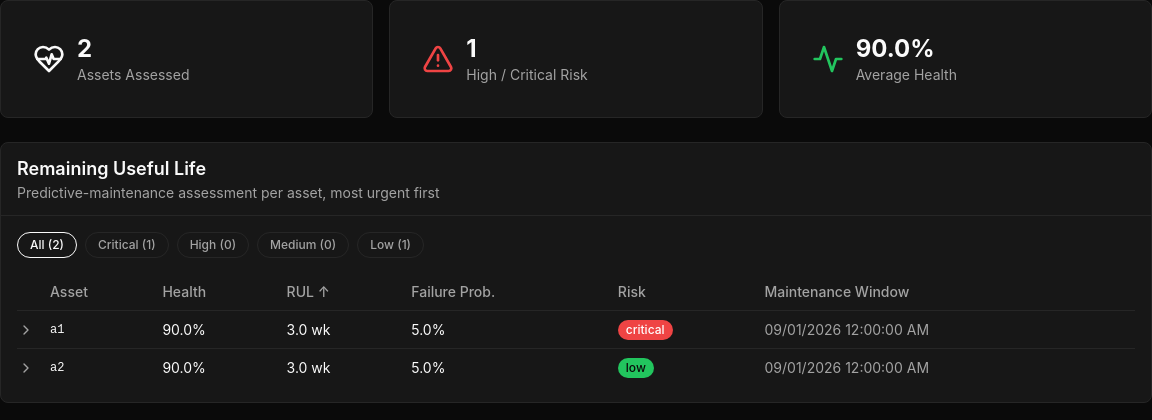
PredictiveMaintenance — filtering and detail › narrows the table to one risk level
This screenshot has width=1152, height=420.
Expected: the text "a1" is shown, [49,310,161,348]
Step 1. Click the button "Critical (1)" → point(127, 245), box [85,232,169,258]
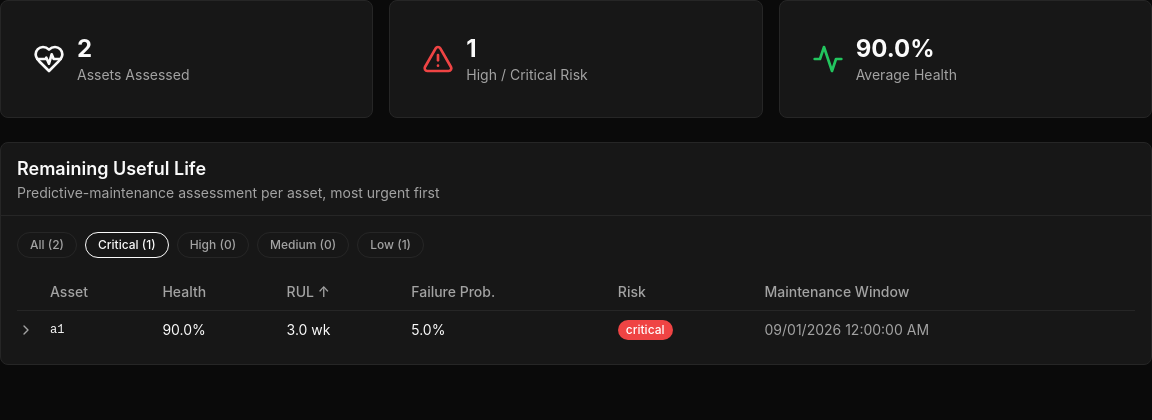
Expected: the text "a1" is shown, [49,310,161,348]
Now the text "a2" is gone
